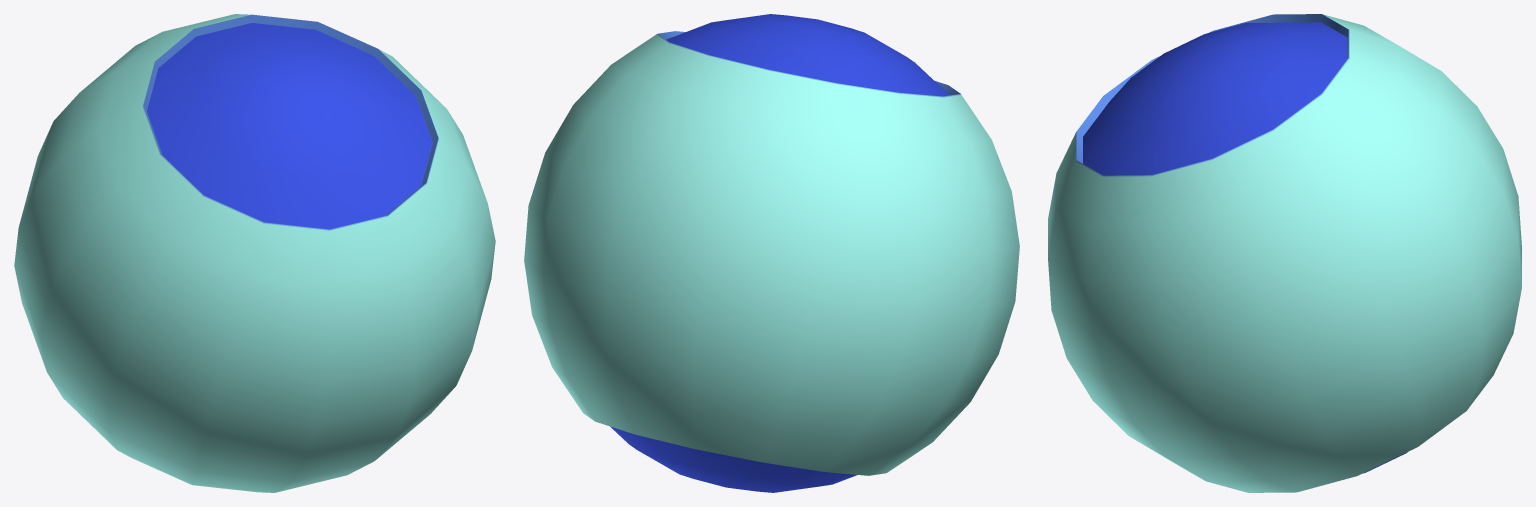
Rendered from FX_PowerUp_FuzShield.fbx.
3 views of the same model, side by side, from view 1: azimuth 30°, elevation 25°; view 2: azimuth 150°, elevation 25°; view 3: azimuth 270°, elevation 25° (orthographic). The views are drawn at different scales.
Parts seen in each view (by area): view 1: polySurface1; view 2: polySurface1; view 3: polySurface1.
Part boxes in pixels (<box>): polySurface1: <box>14,14,495,492</box>; polySurface1: <box>524,14,1019,492</box>; polySurface1: <box>1048,14,1521,492</box>.
Bounding box in the file's own units: 11.86 × 11.38 × 11.59.
